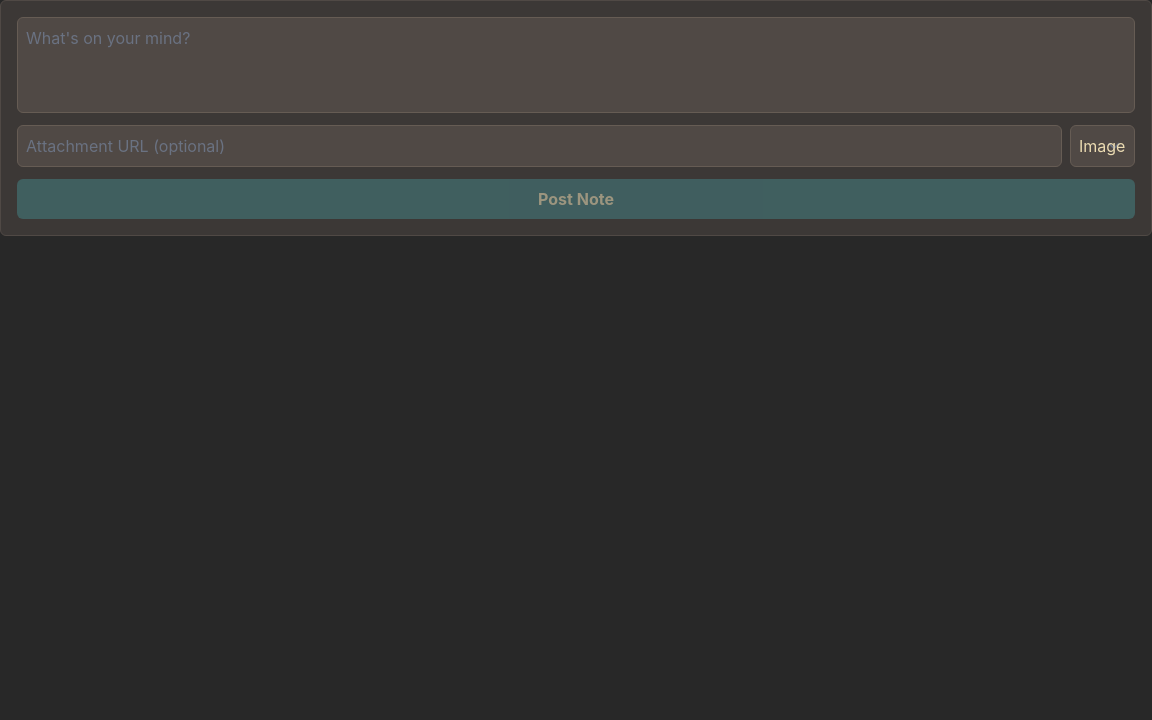
Test: NoteCreator Component › should show ErrorDialog when API fails
The width and height of the screenshot is (1152, 720).
In the text box with placeholder "What's on your mind?": (576, 65) [17,17,1135,113], type "Error trigger"
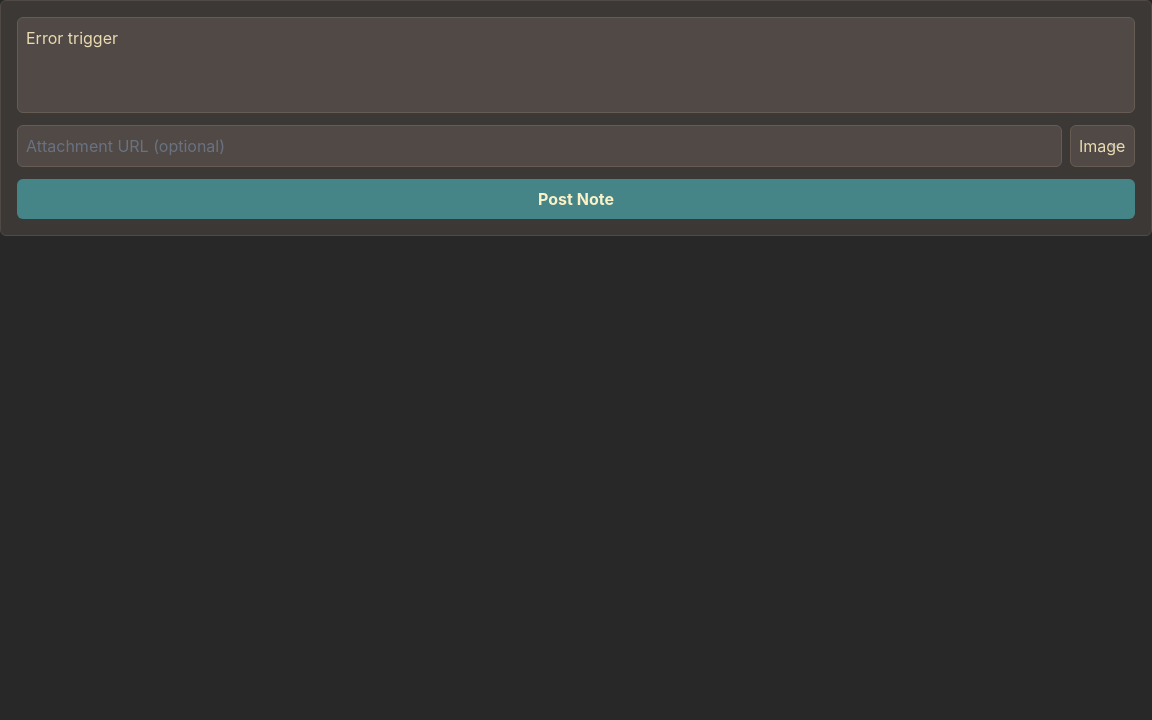
Click the button "Post Note": (576, 199) [17,179,1135,219]
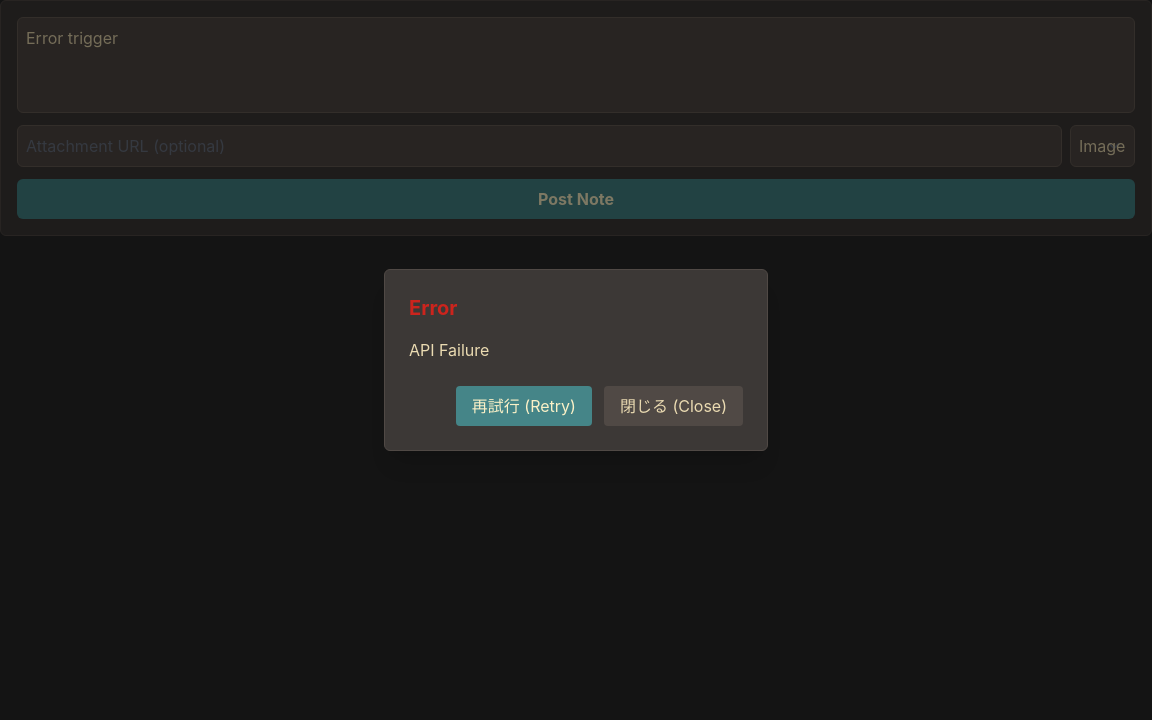
Result: the text "API Failure" is shown at [409,340,489,360]
Result: the button "再試行 (Retry)" is shown at [456,386,592,426]
